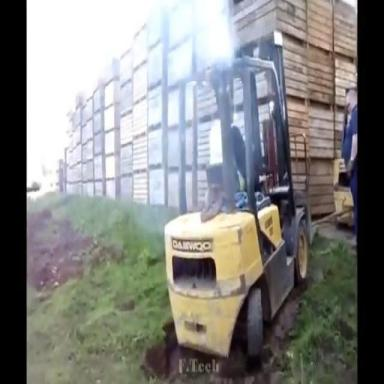forklift: (165, 30, 313, 362)
